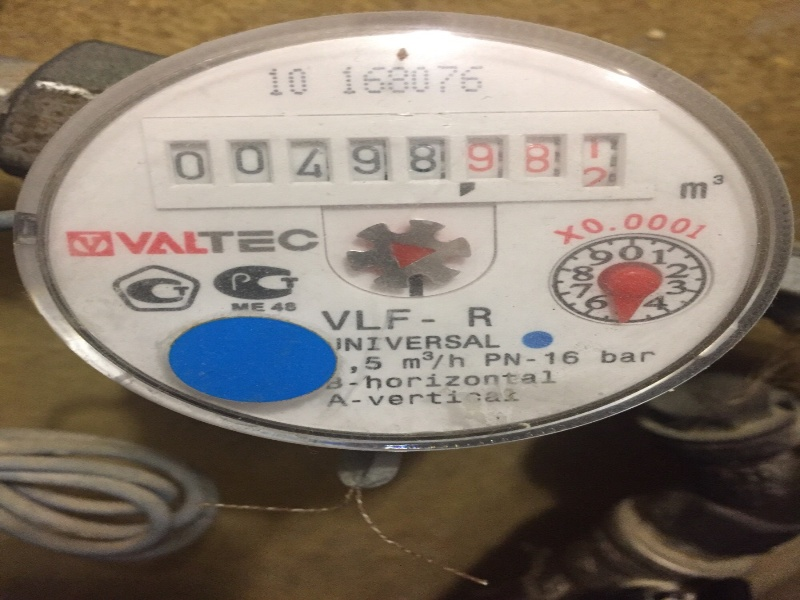meter: (151, 127, 636, 199)
